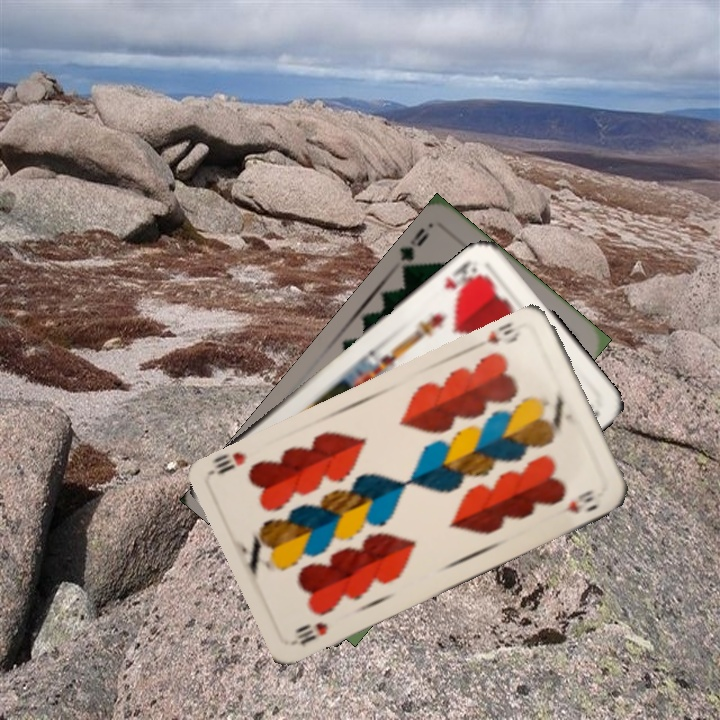G9: (396, 223, 432, 276)
H10: (471, 319, 524, 351), (291, 618, 331, 648)
HK: (441, 256, 485, 298)
